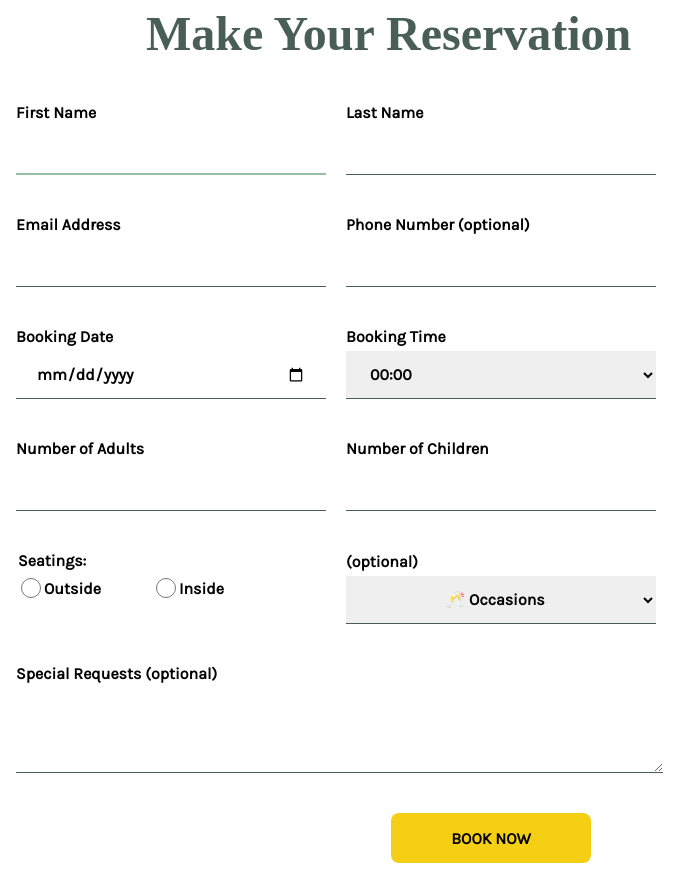
Test: Booking Form › should show an error message for input field when a past date is selected
The width and height of the screenshot is (680, 874).
In the date field labelled "Booking Date": [171, 375] box [16,351,326,399], type "2024-11-03"
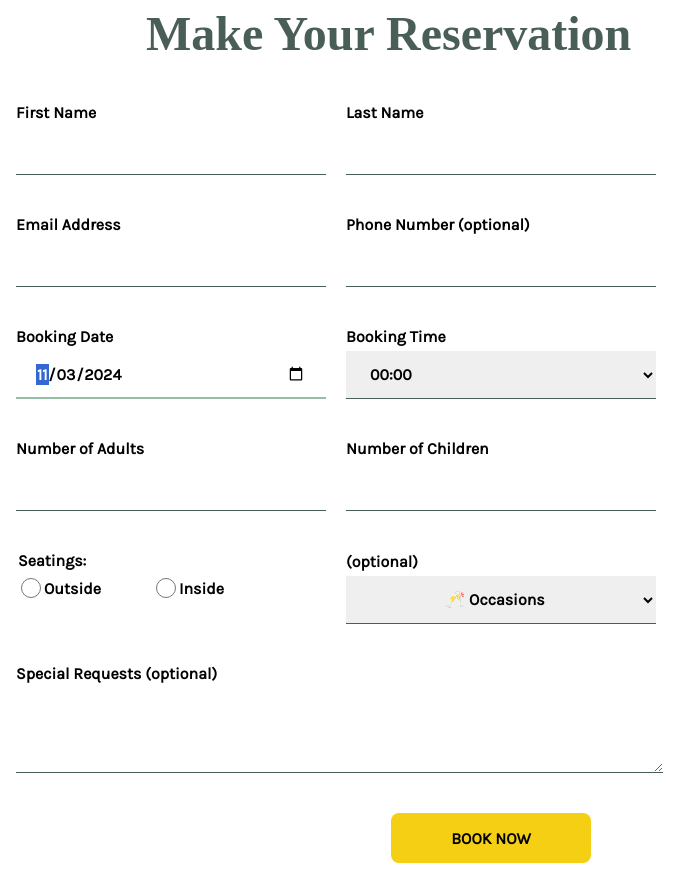
Click the button "BOOK NOW": [491, 838] box [391,813,591,863]
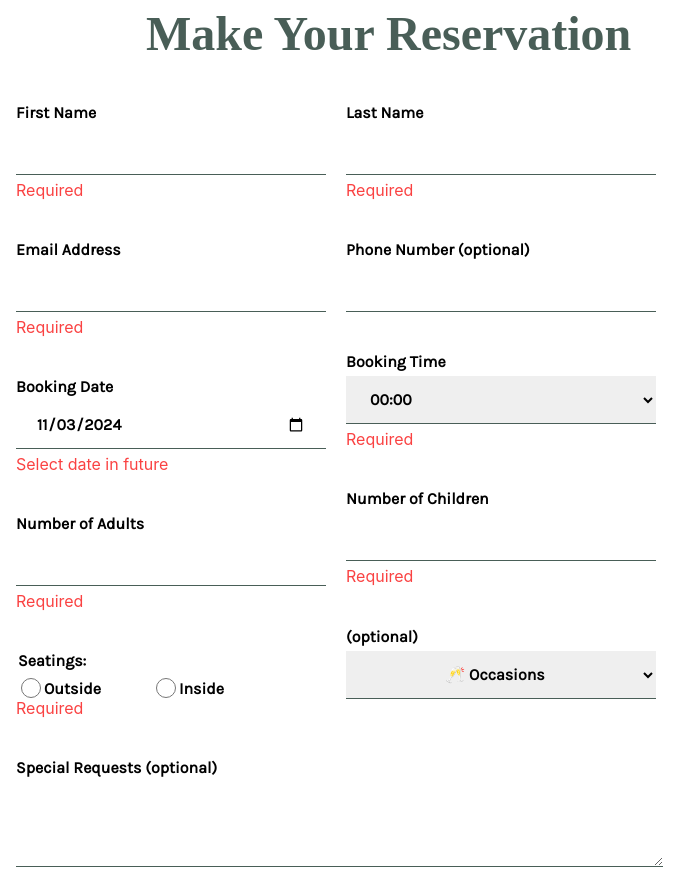
Expected: the text with id "bookingDate-error" reads "Select date in future", [16,454,168,474]
